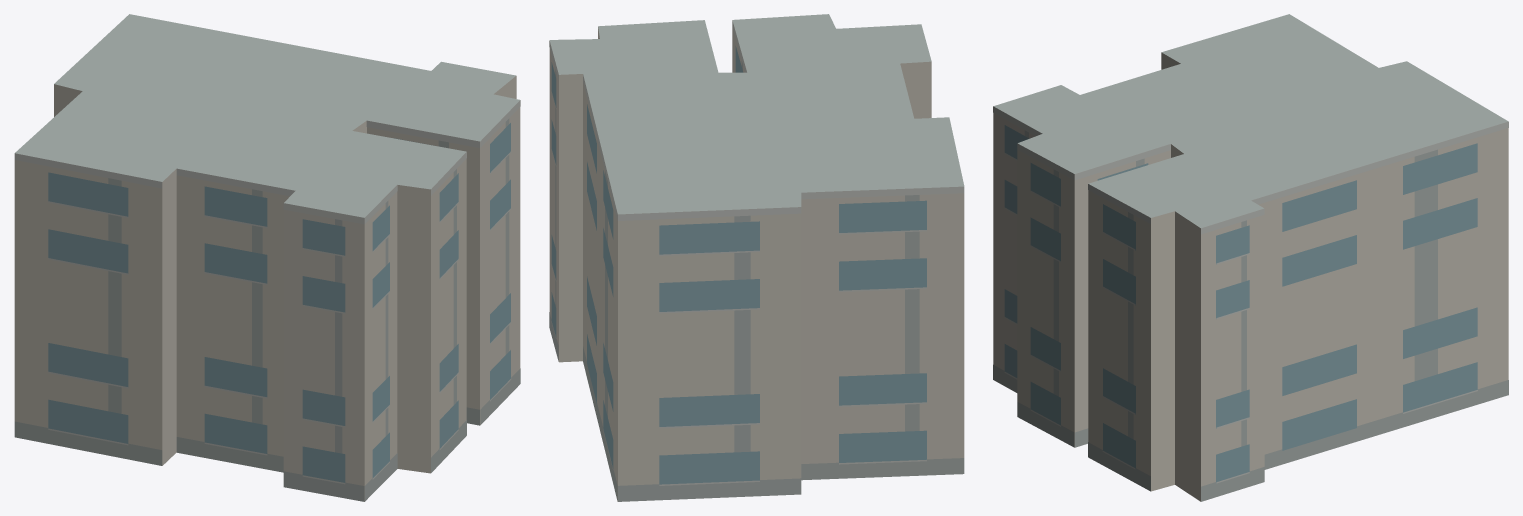
Rendered from survey-upis-32954377.glb.
3 views of the same model, side by side, from view 1: azimuth 30°, elevation 25°; view 2: azimuth 150°, elevation 25°; view 3: azimuth 270°, elevation 25° (orthographic). The views are drawn at different scales.
Visible parts, largest first — view 1: survey-upis-32954377.tmp; view 2: survey-upis-32954377.tmp; view 3: survey-upis-32954377.tmp.
Part boxes in pixels (x1=…): survey-upis-32954377.tmp: x1=14, y1=14, x2=520, y2=501; survey-upis-32954377.tmp: x1=549, y1=14, x2=964, y2=501; survey-upis-32954377.tmp: x1=993, y1=14, x2=1508, y2=501.
Size of the model in its own units: 17.65 by 10.5 by 17.94.
